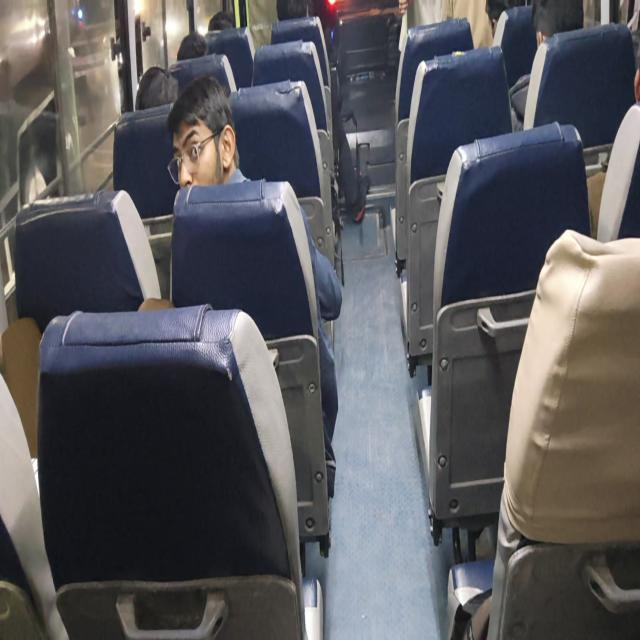person: (151, 74, 343, 499), (166, 75, 250, 189), (134, 65, 179, 111), (176, 31, 208, 60)
